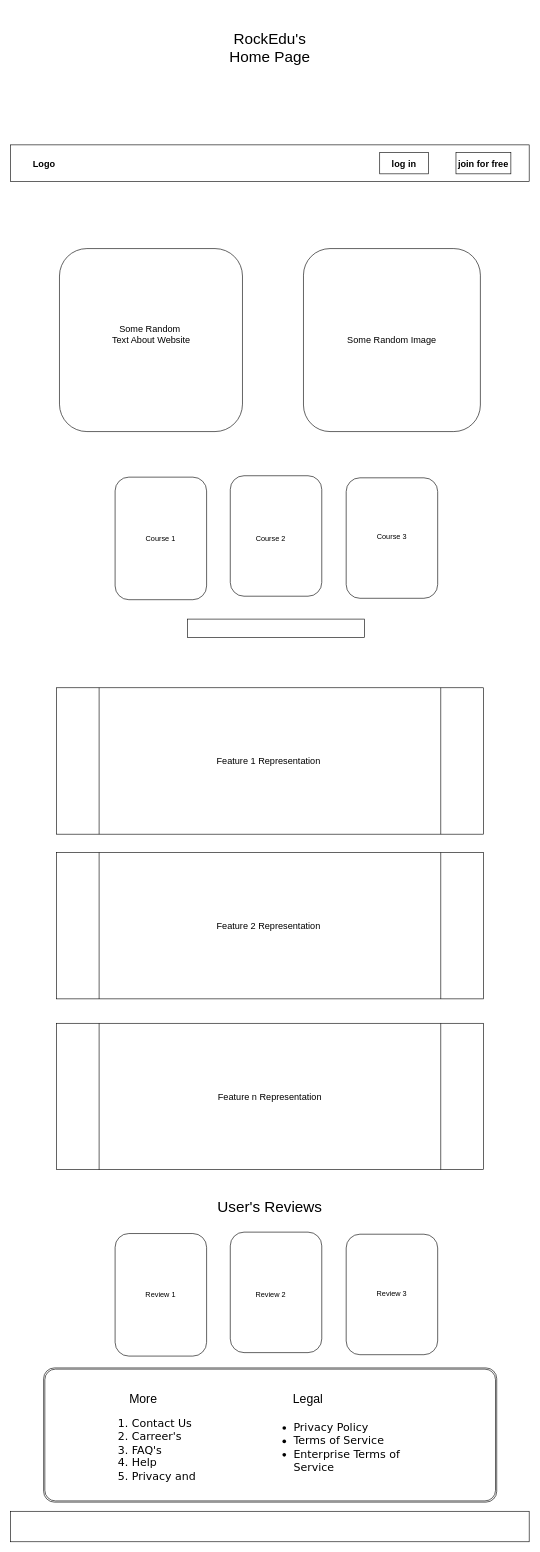
Some shapes in this 540 by 1552 pixel diagram are drawn without their labels. Each missing label, with the centre of its shape:
Footer: the point at 269,1526
VIEW ALL COURSES: the point at 275,627
